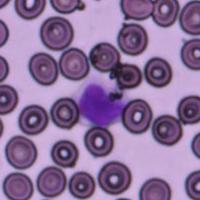L: (72, 78, 129, 128)
